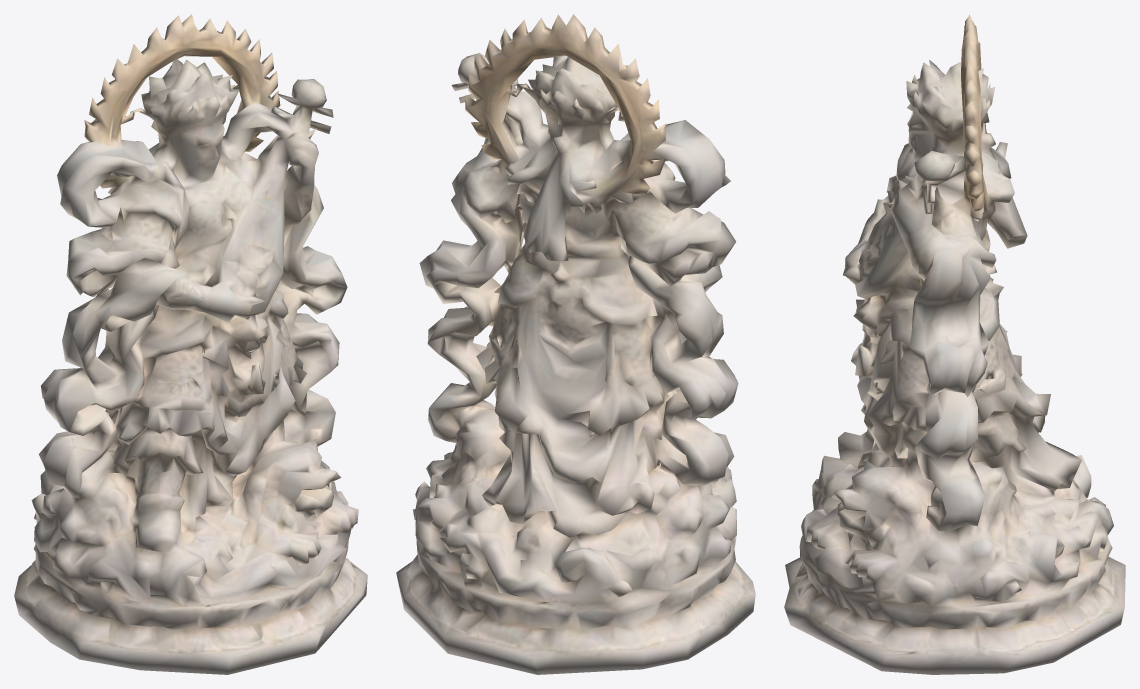
Rendered from far.glb.
3 views of the same model, side by side, from view 1: azimuth 30°, elevation 25°; view 2: azimuth 150°, elevation 25°; view 3: azimuth 270°, elevation 25° (orthographic).
Parts seen in each view (by area): view 1: four-heavenly-kings-01; view 2: four-heavenly-kings-01; view 3: four-heavenly-kings-01.
Part boxes in pixels (x1=…): four-heavenly-kings-01: x1=14, y1=14, x2=367, y2=674; four-heavenly-kings-01: x1=396, y1=14, x2=755, y2=674; four-heavenly-kings-01: x1=784, y1=14, x2=1125, y2=674.
Bounding box in the file's own units: 0.5284 × 1 × 0.53.
1 material, 1 textured.
